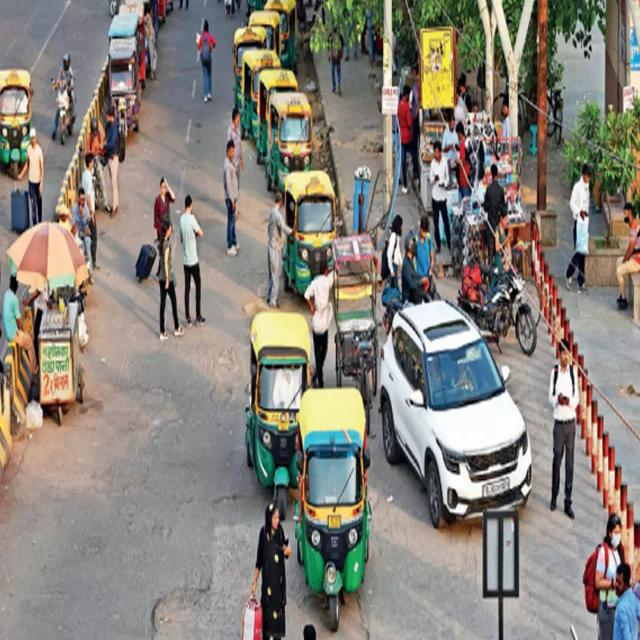autorikshaw: (298, 390, 367, 624), (248, 313, 314, 516), (283, 167, 338, 300), (269, 91, 317, 197), (256, 66, 297, 165), (0, 64, 33, 178), (241, 52, 278, 136)
car: (382, 303, 534, 525)
